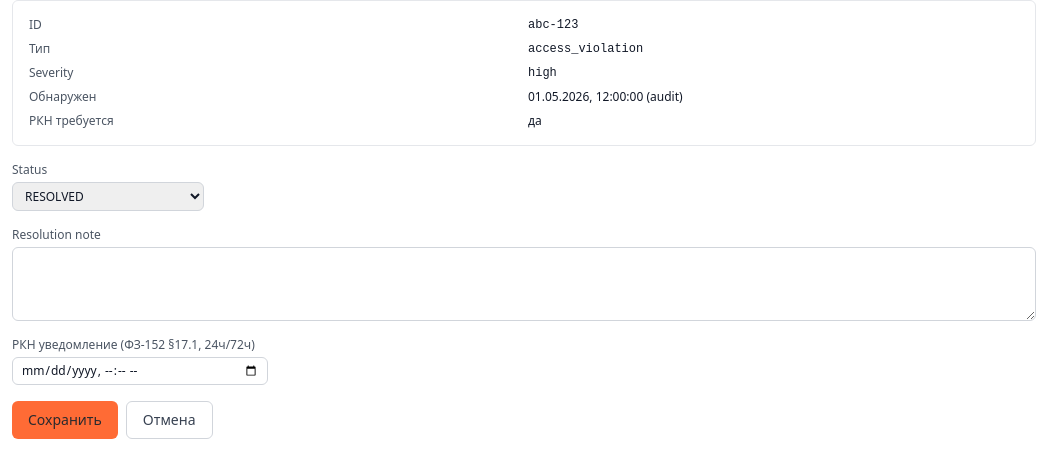
Test case: IncidentEditForm › warning when reverting terminal → non-terminal
Select "OPEN" in the dropdown labelled "Status" at (108, 196), box [12,182,204,211]
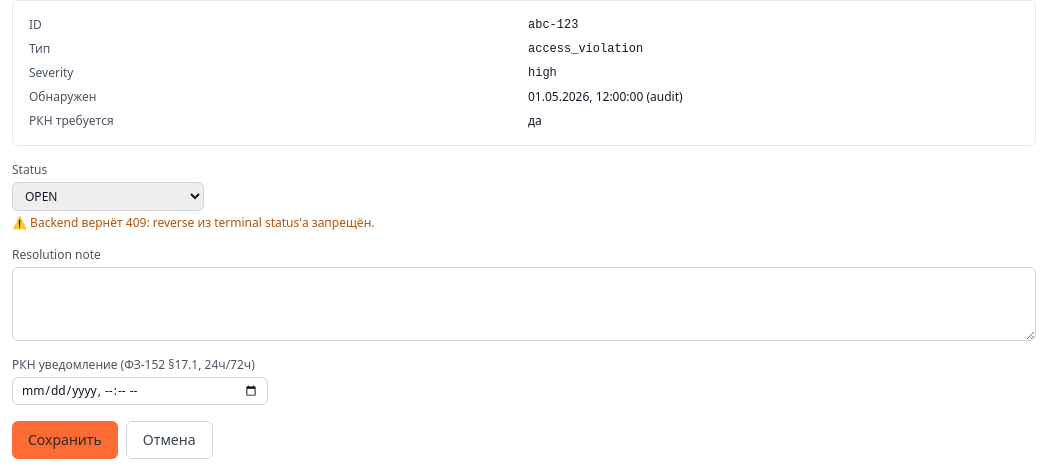
Expected: the text "⚠ Backend вернёт 409: reverse из terminal status'а запрещён." is shown, [12,214,374,231]
